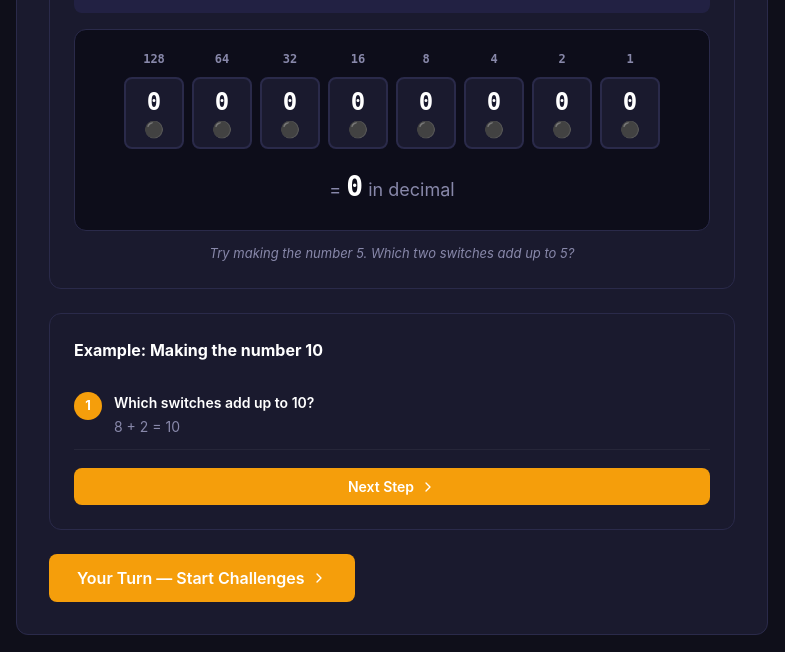
Test: ModulePage challenge flow › shows "All challenges done" on the last completed challenge
(page scrolled)
Click the button with test id "start-challenges": (202,578) x1=49 y1=554 x2=355 y2=602
(page scrolled)
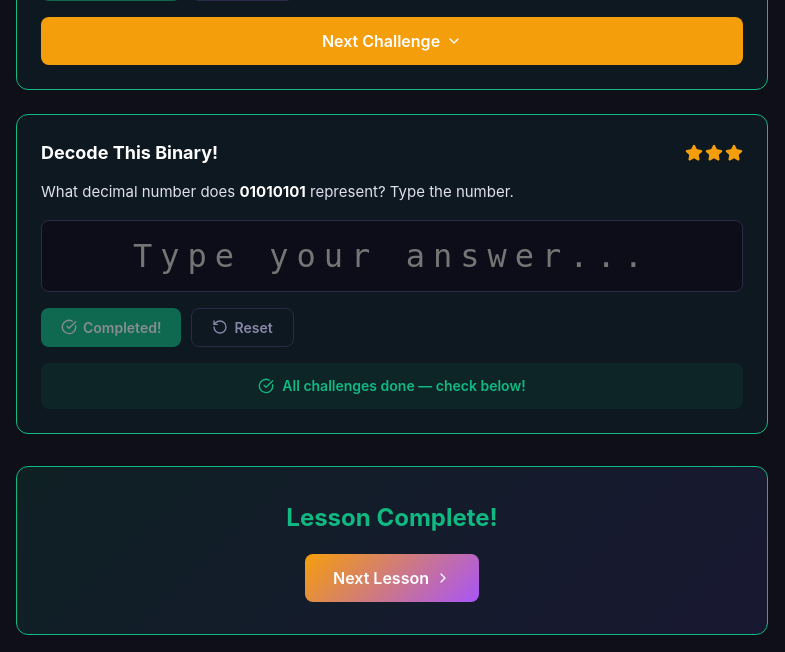
Check: the element with test id "lesson-complete" is shown, box x1=16 y1=466 x2=768 y2=634
